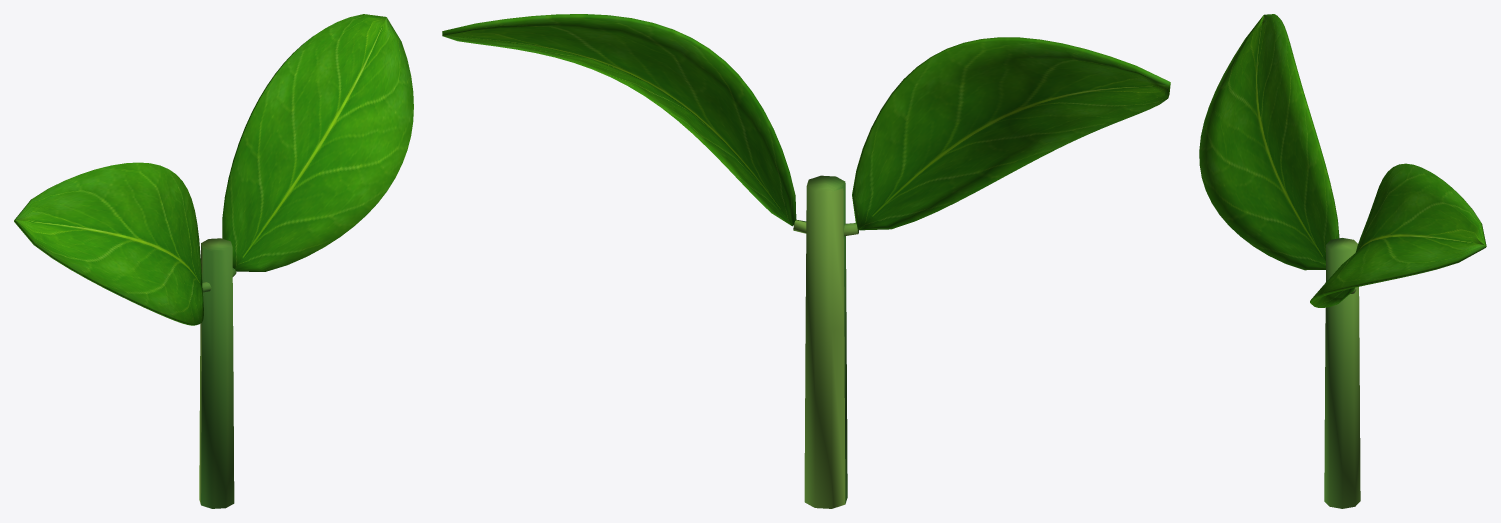
Rendered from NP_Hibiscus_Sprout.fbx.
The picture shows the model from 3 angles, left to right: view 1: azimuth 30°, elevation 25°; view 2: azimuth 150°, elevation 25°; view 3: azimuth 270°, elevation 25°; orthographic projection. The views are drawn at different scales.
Parts seen in each view (by area): view 1: NP_Hibiscus_Sprout; view 2: NP_Hibiscus_Sprout; view 3: NP_Hibiscus_Sprout.
Part boxes in pixels (x1,y1,x2,y2): NP_Hibiscus_Sprout: (14, 14, 413, 508); NP_Hibiscus_Sprout: (442, 14, 1170, 508); NP_Hibiscus_Sprout: (1199, 14, 1486, 508).
Bounding box in the file's own units: 24.61 × 19.22 × 12.68.
